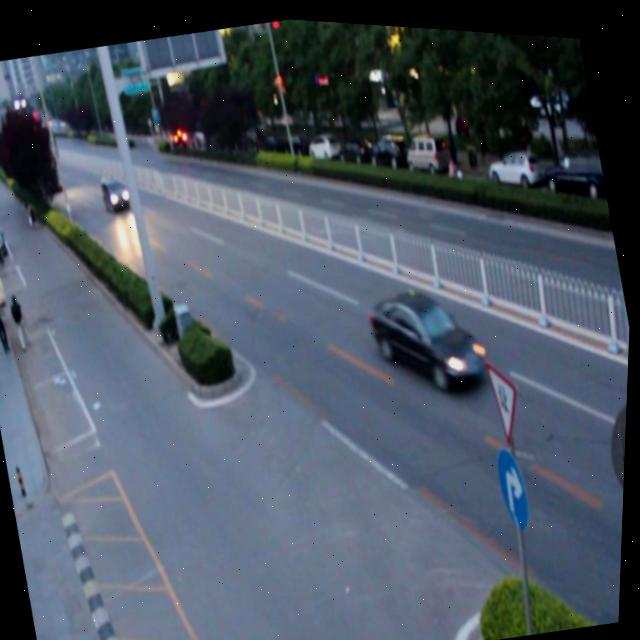car: (364, 266, 492, 403), (100, 171, 132, 213)
